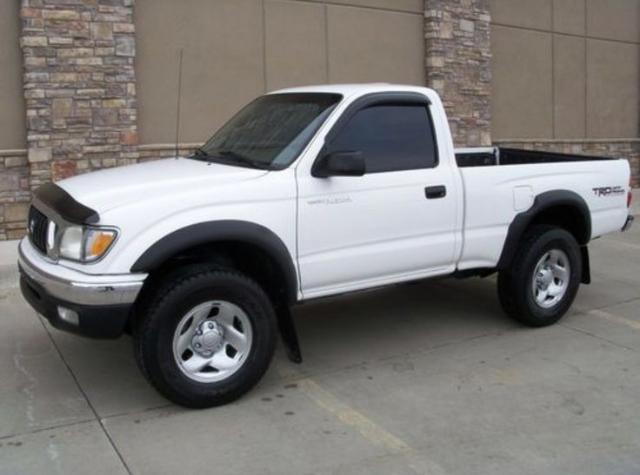pickup-truck: (17, 82, 637, 410)
